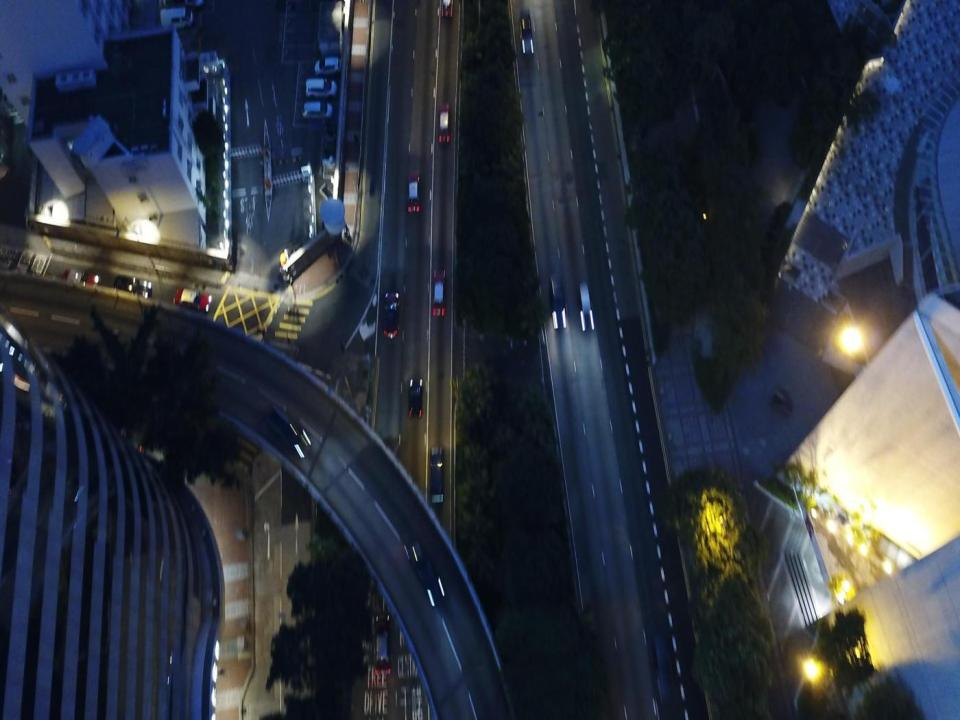car: (113, 273, 153, 302), (548, 275, 566, 330), (174, 287, 213, 312), (374, 614, 390, 674), (578, 283, 595, 333), (61, 268, 98, 290), (430, 445, 444, 503), (518, 10, 534, 56), (384, 292, 400, 337), (431, 270, 446, 315), (408, 378, 422, 417), (438, 102, 451, 142), (407, 173, 419, 213), (440, 0, 453, 18)
